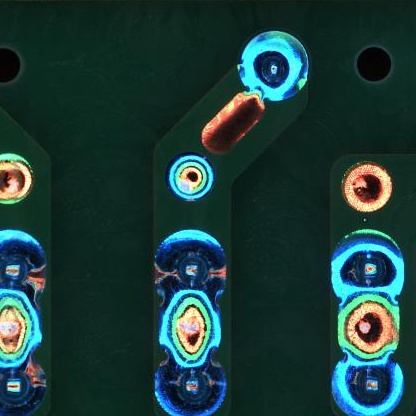spot: (330, 228, 406, 299), (152, 230, 229, 299), (240, 28, 310, 99), (154, 353, 226, 416), (333, 354, 407, 414), (1, 228, 47, 294), (168, 155, 215, 202), (1, 367, 47, 415)
